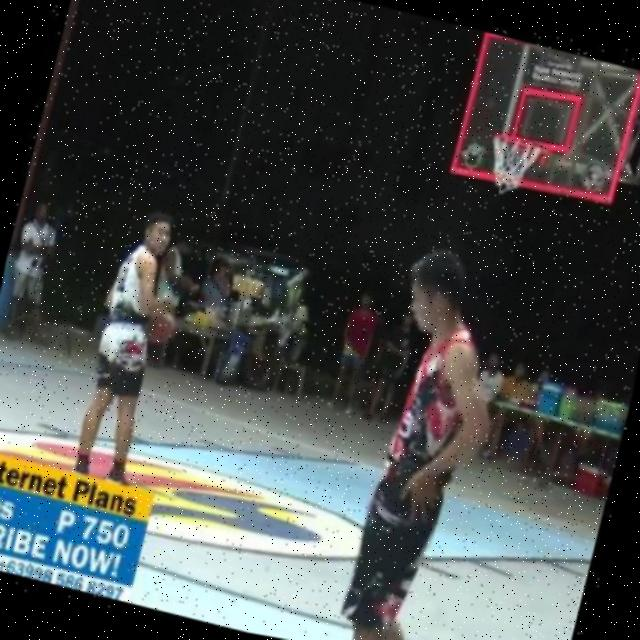ball: (136, 300, 182, 348)
hoop: (488, 130, 546, 158)
